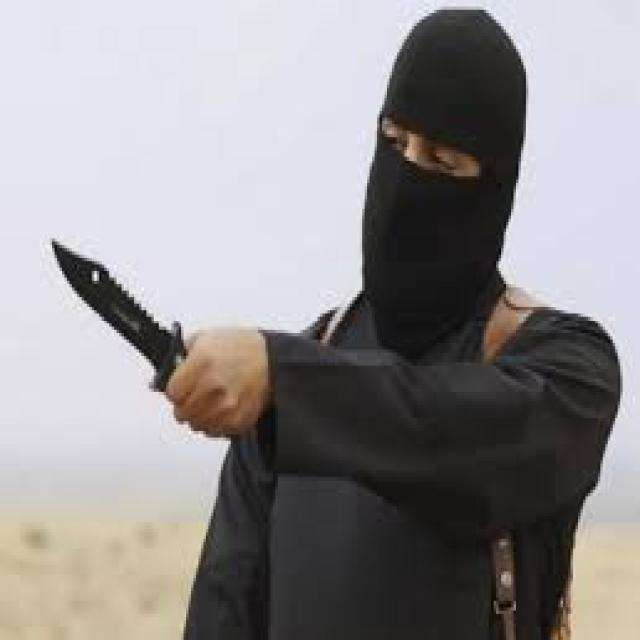person-with-mask: (86, 16, 624, 639)
